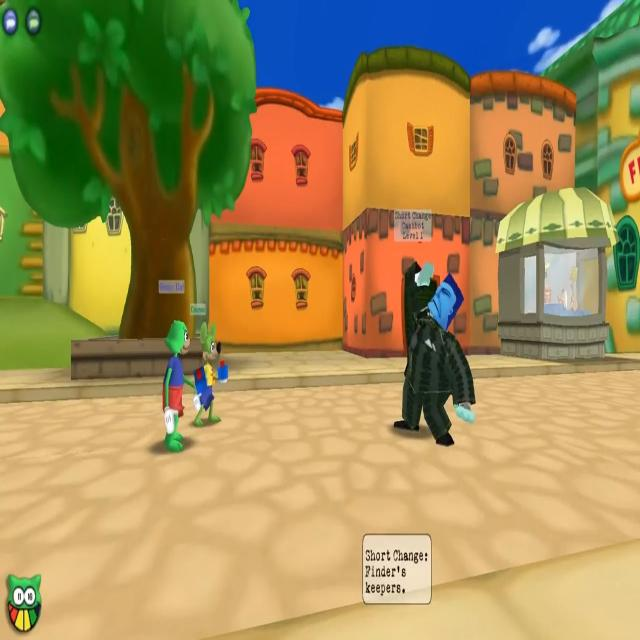shortchange: (399, 267, 476, 446)
